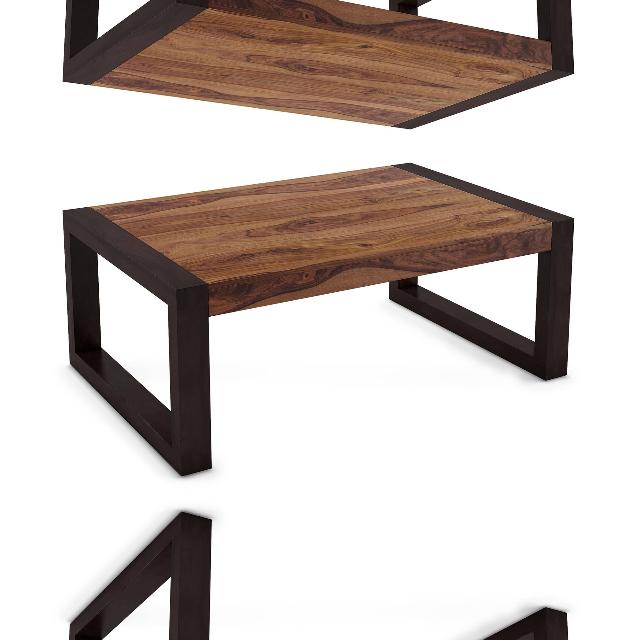obstacle: (44, 161, 596, 469), (43, 0, 596, 129), (43, 519, 596, 640)
